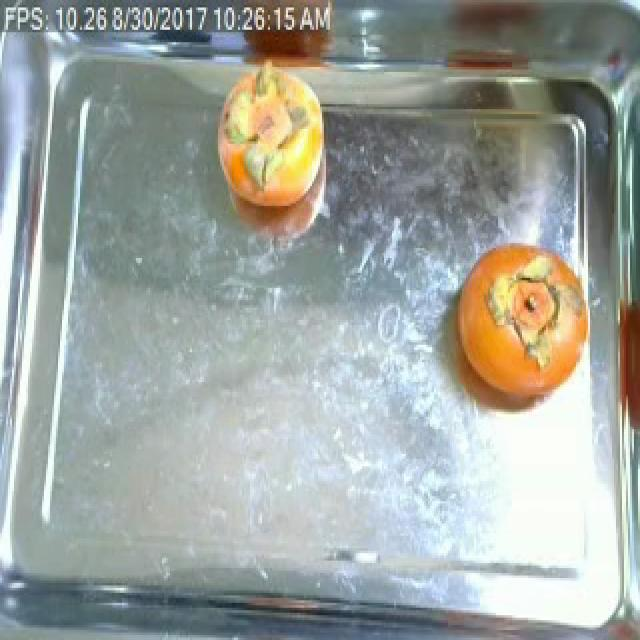Fruit: (204, 54, 334, 226)
